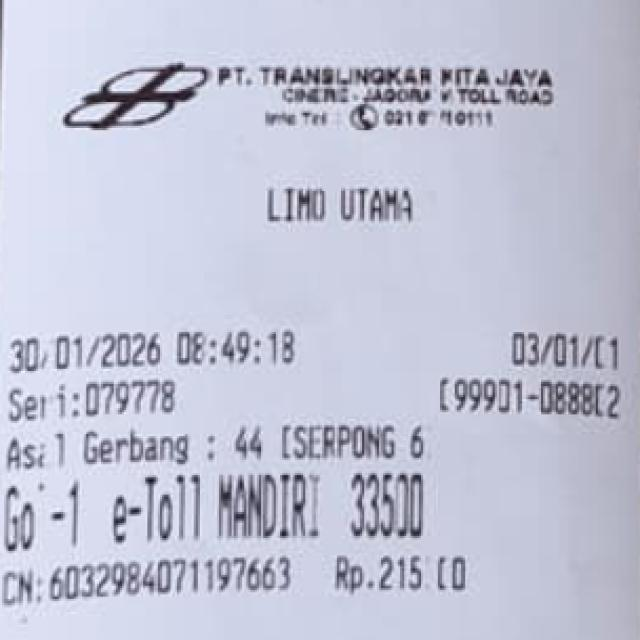date: (3, 334, 299, 378)
store: (196, 57, 577, 111)
total: (342, 469, 433, 543)
